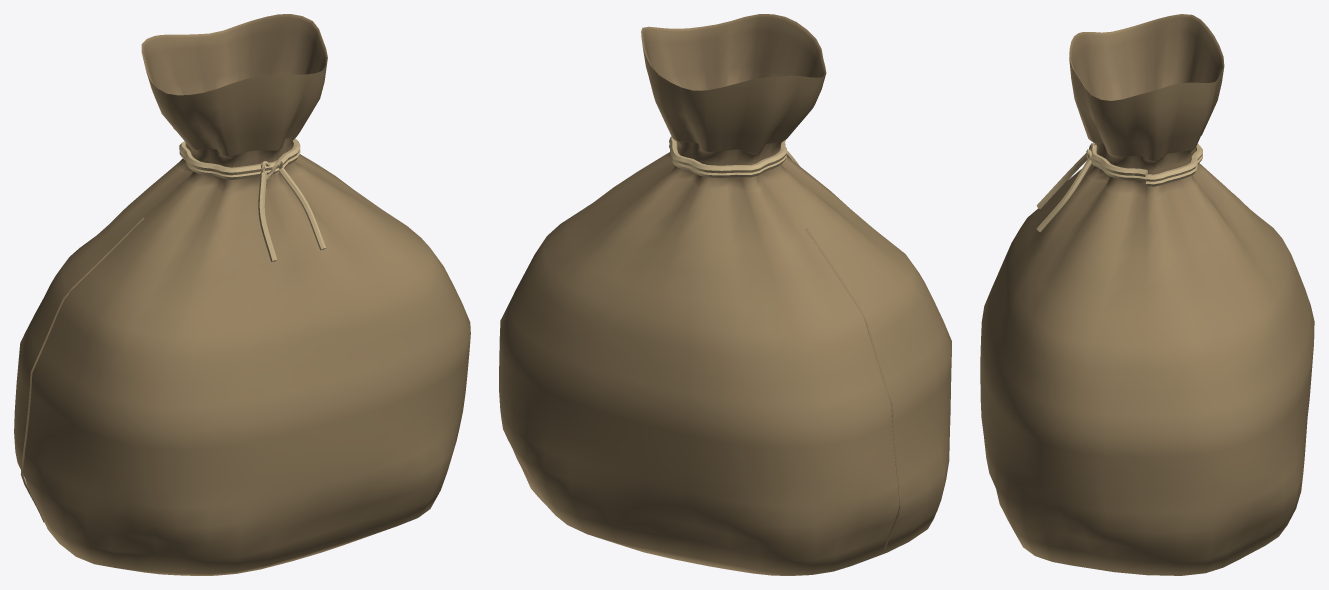
Rendered from pr_sack.glb.
3 views of the same model, side by side, from view 1: azimuth 30°, elevation 25°; view 2: azimuth 150°, elevation 25°; view 3: azimuth 270°, elevation 25° (orthographic). The views are drawn at different scales.
Visible parts, largest first — view 1: PR_sack__body; view 2: PR_sack__body; view 3: PR_sack__body.
Boxes of the visible parts, x1,y1,x2,y2 form: PR_sack__body: (14, 14, 470, 575); PR_sack__body: (499, 14, 951, 575); PR_sack__body: (980, 14, 1314, 575).
Size of the model in its own units: 0.5751 by 0.649 by 0.4256.
